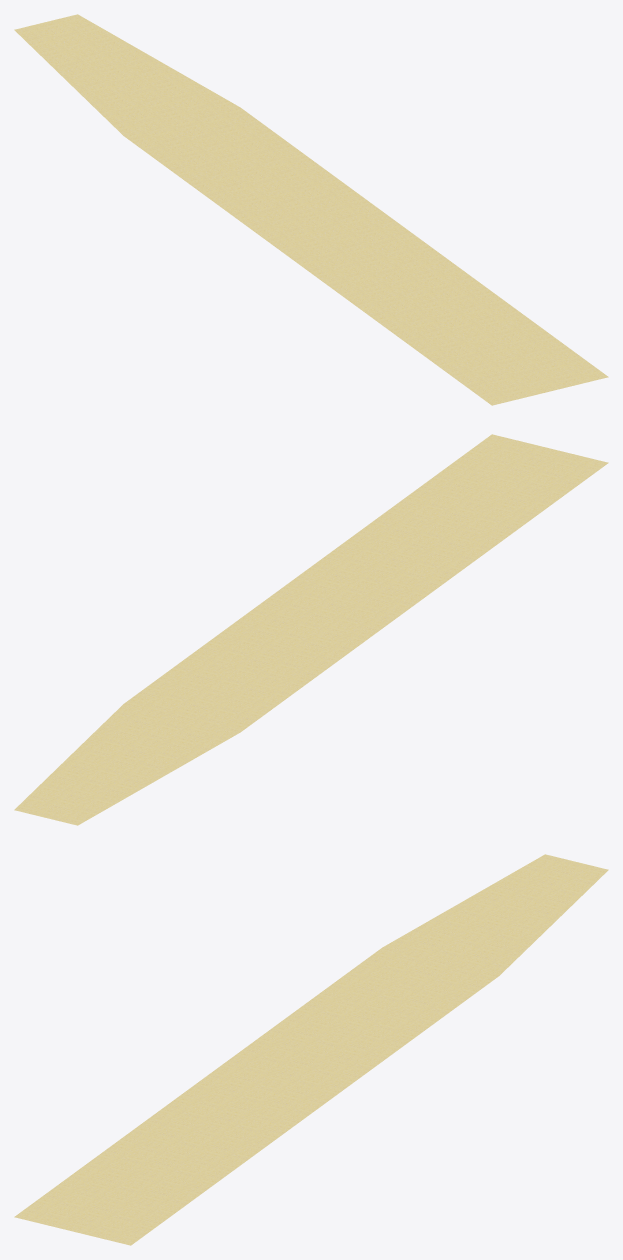
Rendered from PS_Arena_Ground.glb.
3 renders of one model, top to bottom at view 1: azimuth 30°, elevation 25°; view 2: azimuth 150°, elevation 25°; view 3: azimuth 330°, elevation 25°, orthographic.
Parts seen in each view (by area): view 1: Gate Path; view 2: Gate Path; view 3: Gate Path.
Part boxes in pixels (left/top/right/bottom): Gate Path: left=14, top=14, right=608, bottom=405; Gate Path: left=14, top=434, right=608, bottom=825; Gate Path: left=14, top=854, right=608, bottom=1245.
Size of what is drawn, in the model's own units: 22 by 0 by 164.
Materials: 1 (1 with a texture image).
